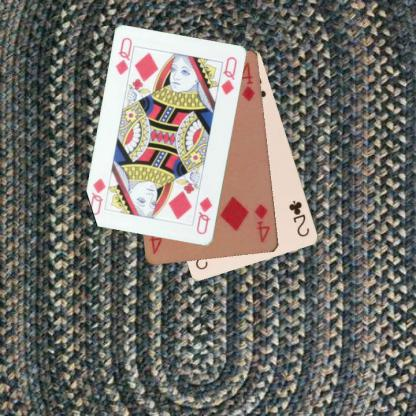2c: (286, 198, 311, 238)
4d: (252, 201, 271, 245)
Qd: (113, 35, 136, 81), (194, 194, 214, 236)
